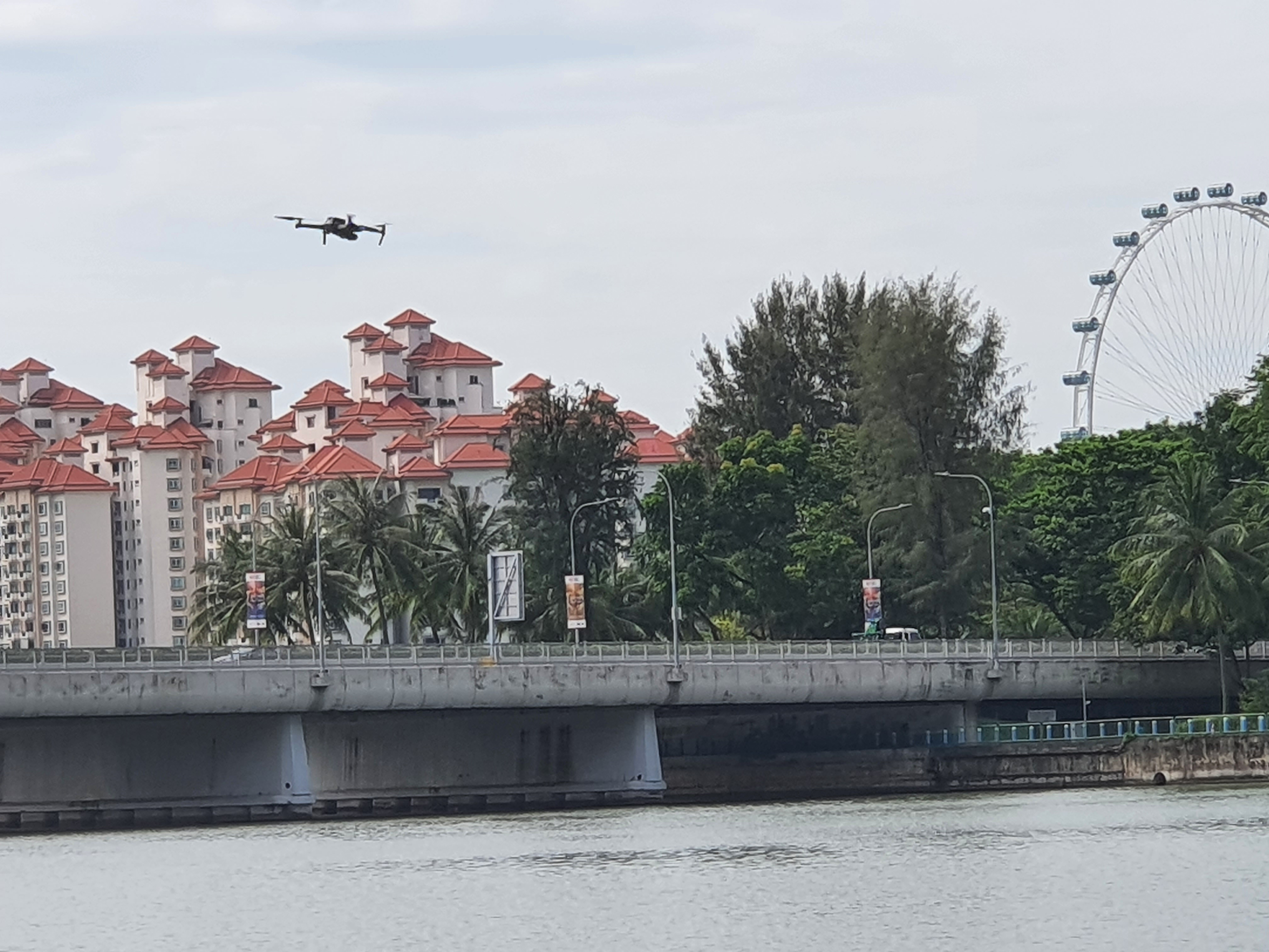drone_other: (271, 209, 395, 249)
